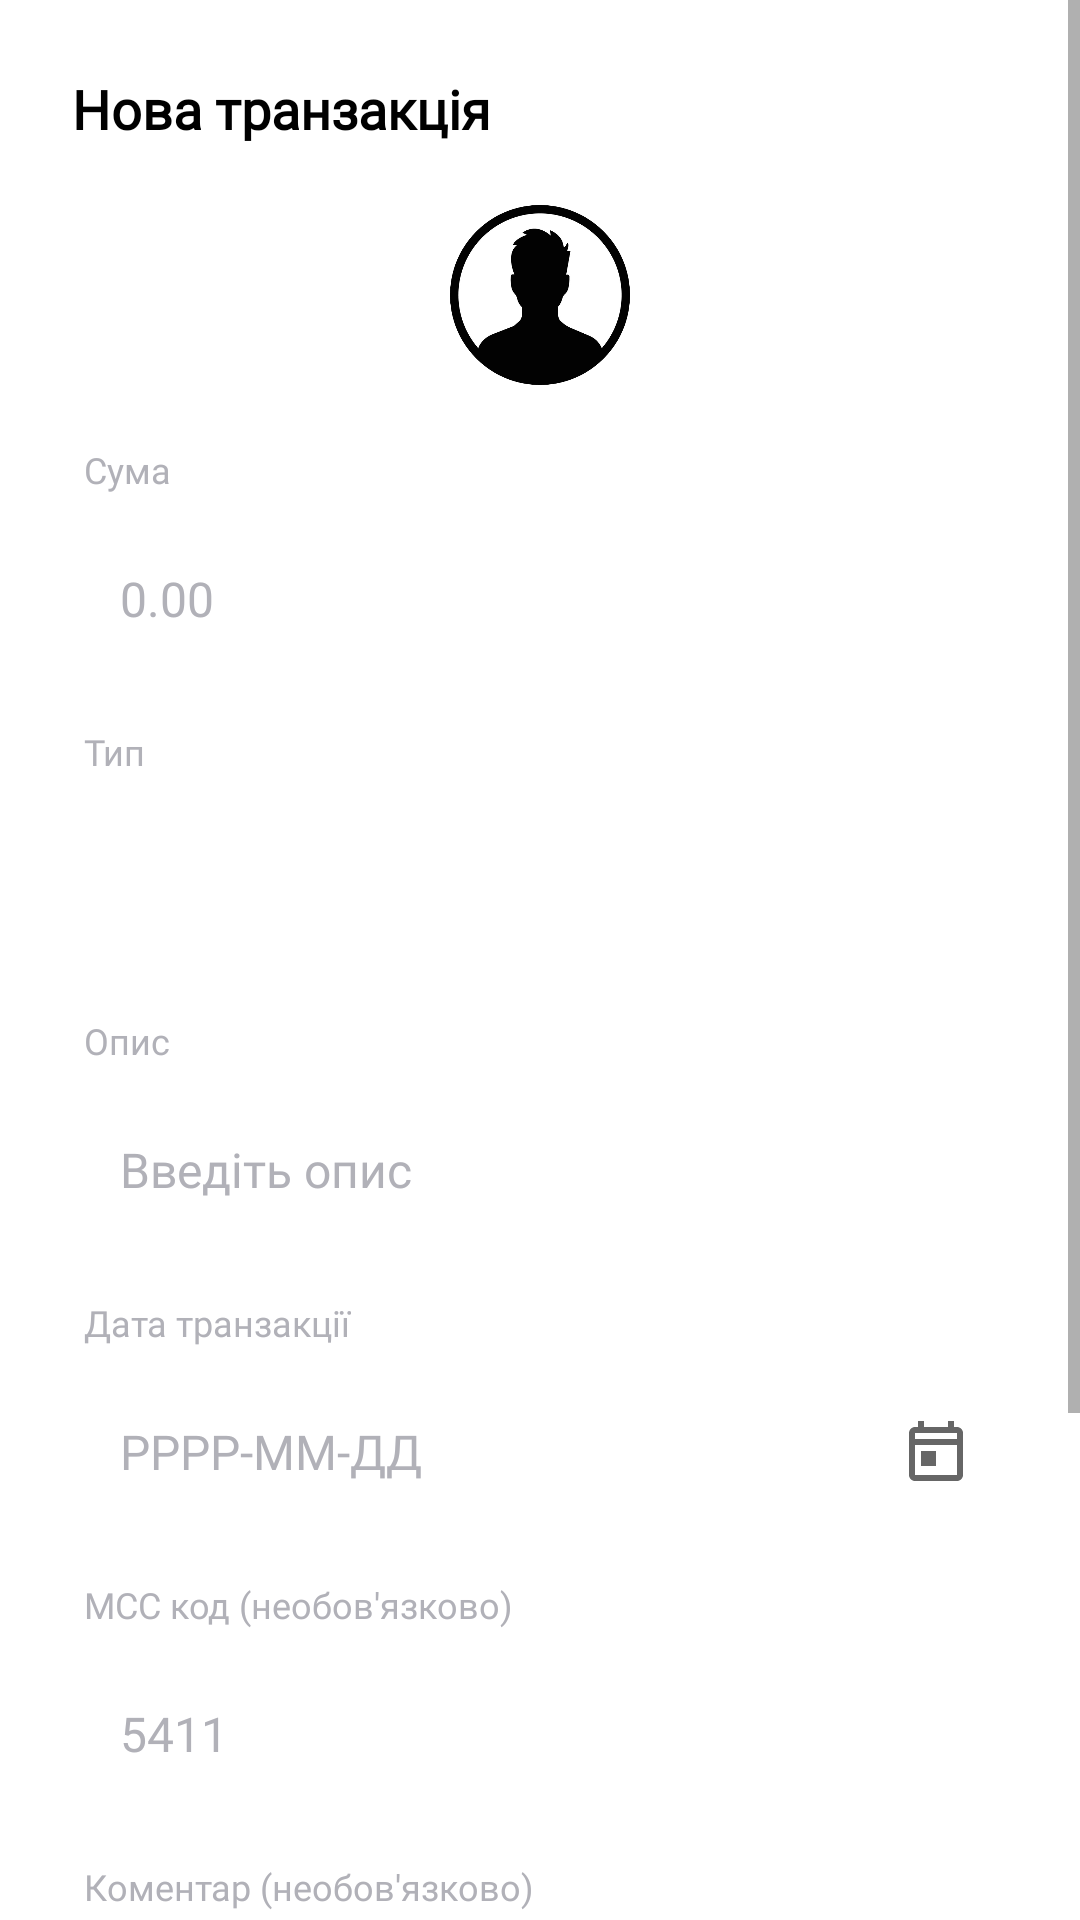

Icon bounding boxes for this 1080*1920 phone screenshot, format {"x1": x1, "y1": y1, "x2": x2, "y2": y2}:
account: {"x1": 450, "y1": 205, "x2": 630, "y2": 385}
Calendar: {"x1": 909, "y1": 1421, "x2": 963, "y2": 1481}
